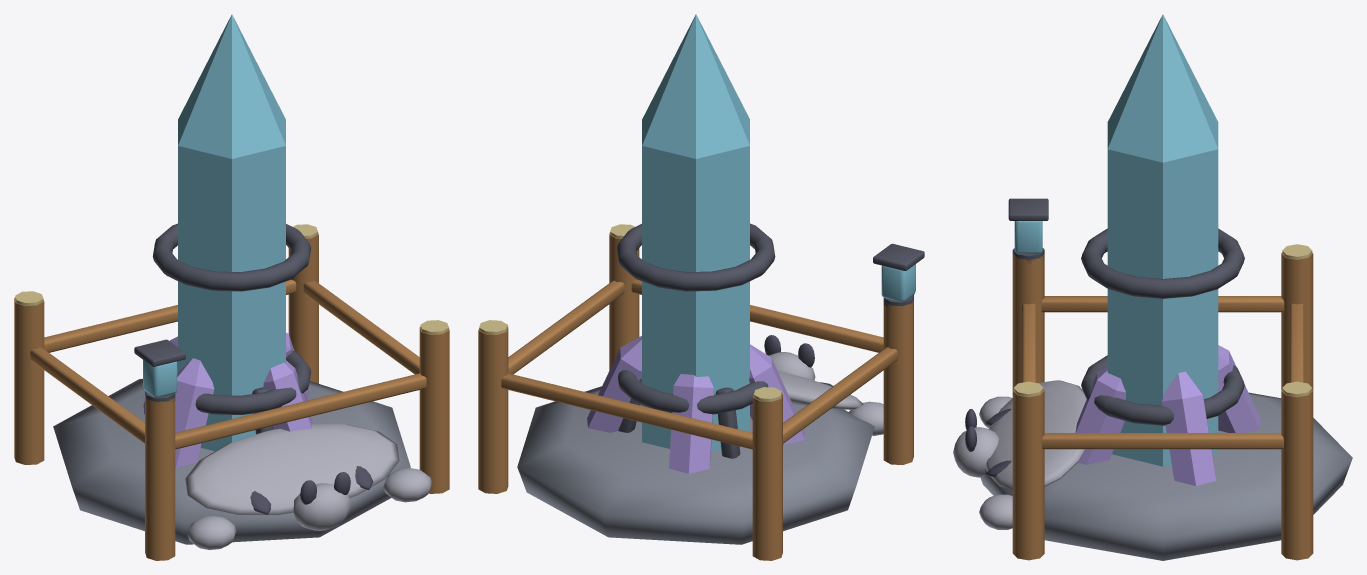
The model's file is warp1.glb.
3 renders of one model, left to right at view 1: azimuth 30°, elevation 25°; view 2: azimuth 150°, elevation 25°; view 3: azimuth 270°, elevation 25°, orthographic. The views are drawn at different scales.
Parts seen in each view (by area): view 1: iron-cradle, pine-posts, alpha-pelt, base; view 2: iron-cradle, pine-posts, base, alpha-pelt; view 3: iron-cradle, pine-posts, base, alpha-pelt.
Boxes of the visible parts, x1,y1,x2,y2 form: iron-cradle: (143,14,313,467); pine-posts: (14,224,449,560); alpha-pelt: (185,424,432,549); base: (53,378,410,544); iron-cradle: (587,14,804,473); pine-posts: (478,224,924,560); base: (517,386,874,544); alpha-pelt: (764,335,883,435); iron-cradle: (1075,14,1260,485); pine-posts: (1008,198,1313,560); base: (980,392,1352,560); alpha-pelt: (953,380,1086,529).
Size of the model in its own units: 1.9 by 2.6 by 2.
